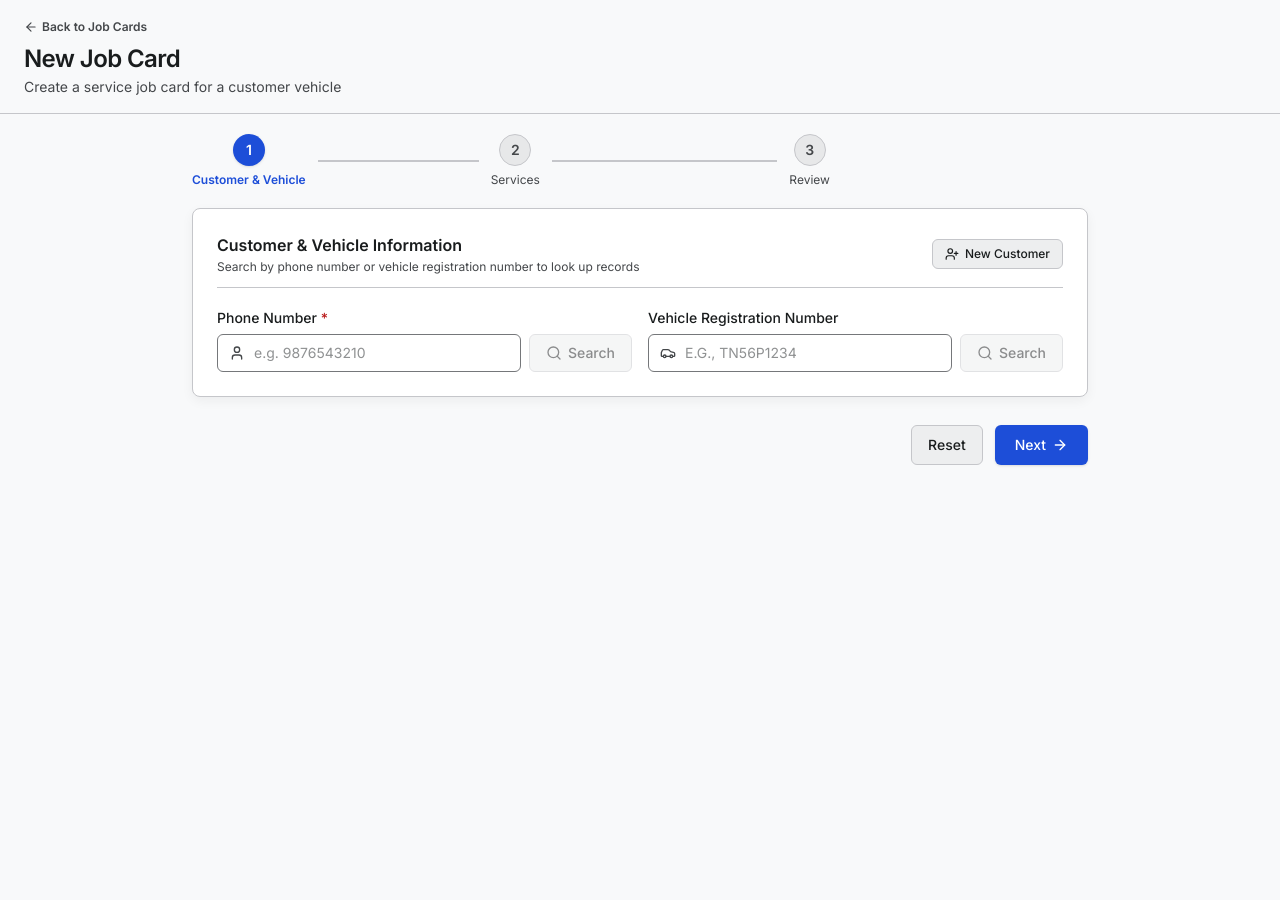
it: NewJobCard Component Workflow › supports inline customer creation and prompts for vehicle
The image size is (1280, 900).
Type "9123456780" into the field with placeholder "e.g. 9876543210".
click(369, 353); type("9123456780")  # box [217,334,521,372]
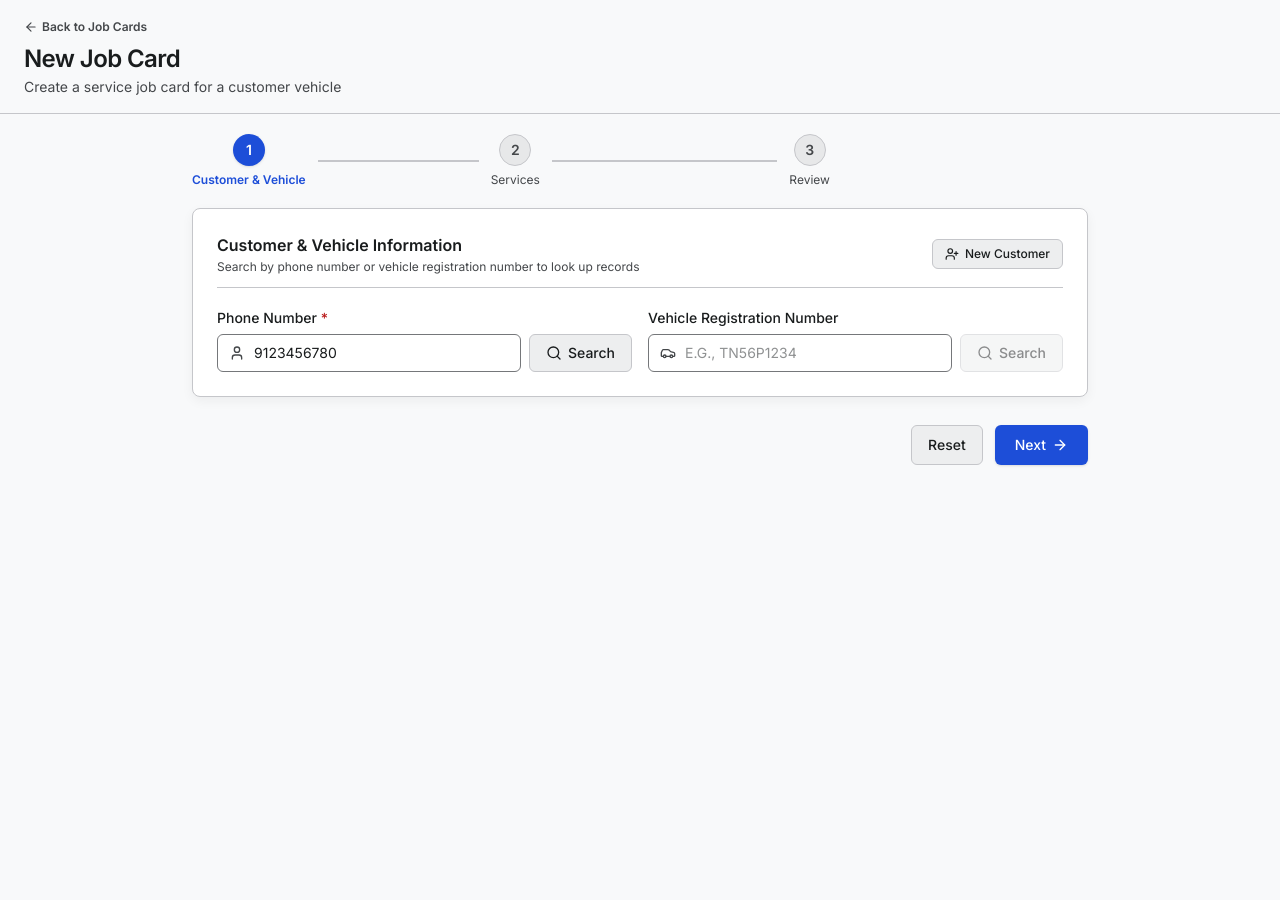
Click the 1st button "Search".
click(580, 353)  # box [529,334,632,372]
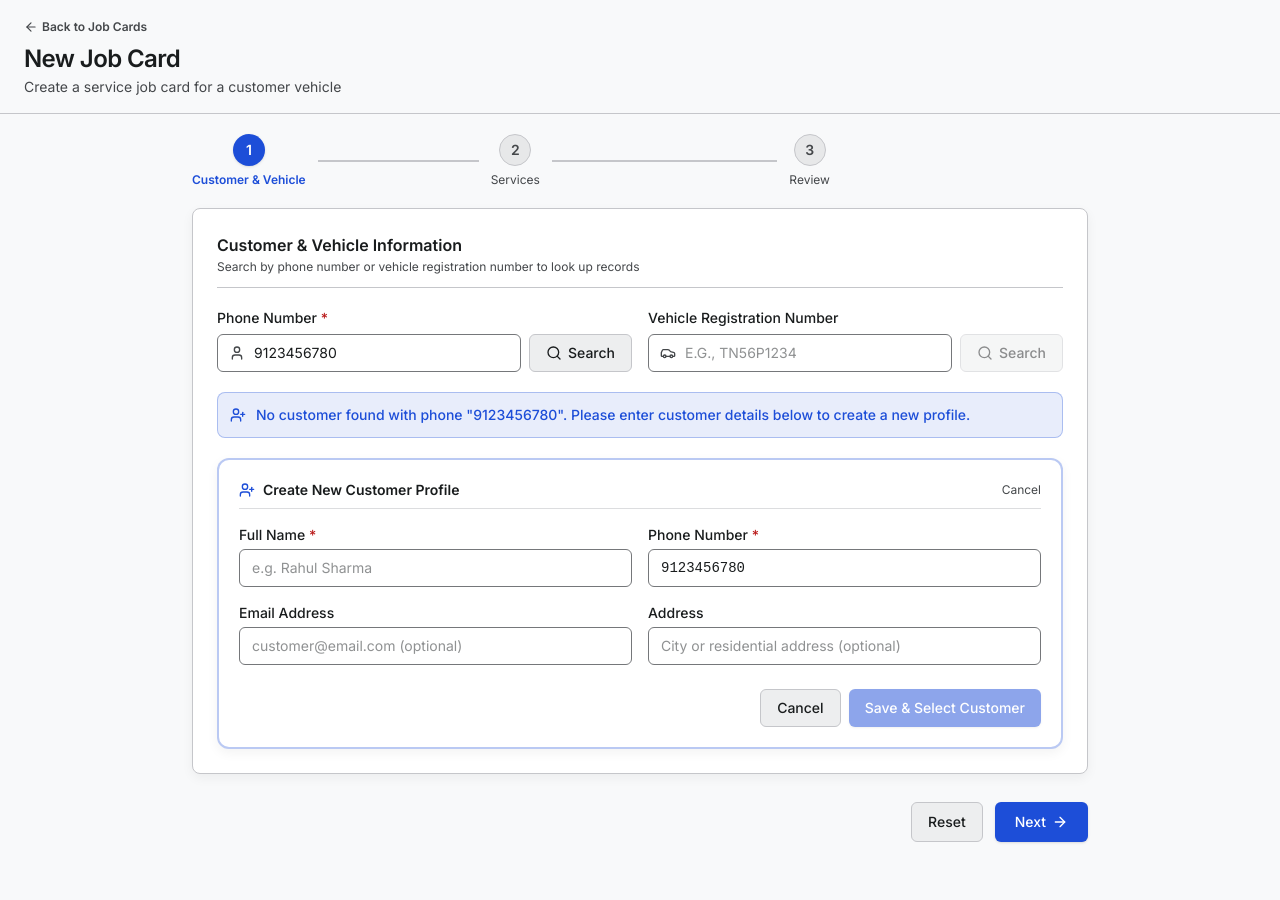
Result: the field with placeholder "e.g. Rahul Sharma" is shown
Type "Kavitha Ram" into the field with placeholder "e.g. Rahul Sharma".
click(436, 568); type("Kavitha Ram")  # box [239,549,632,587]
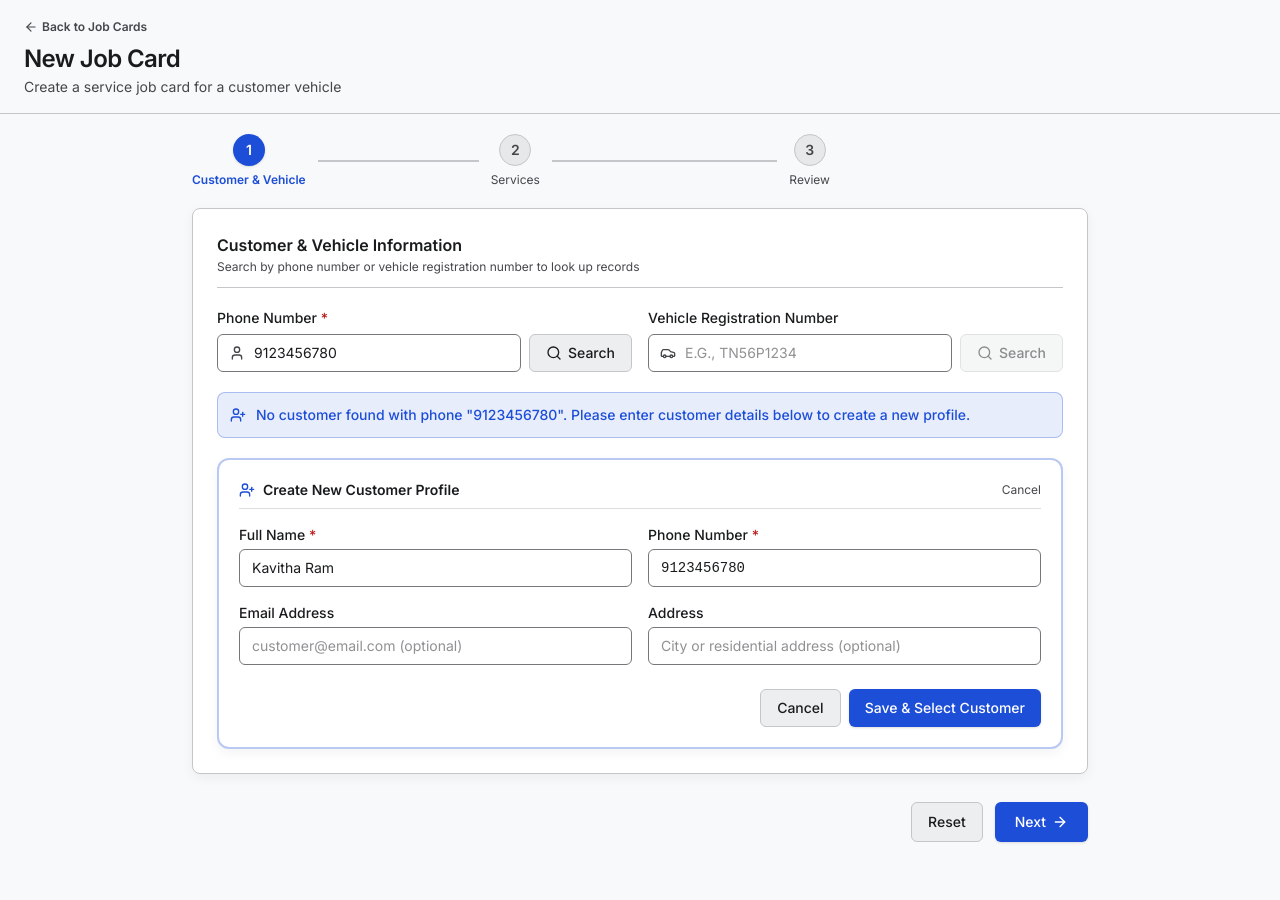
Click the button "Save & Select Customer".
click(945, 708)  # box [849,689,1041,727]
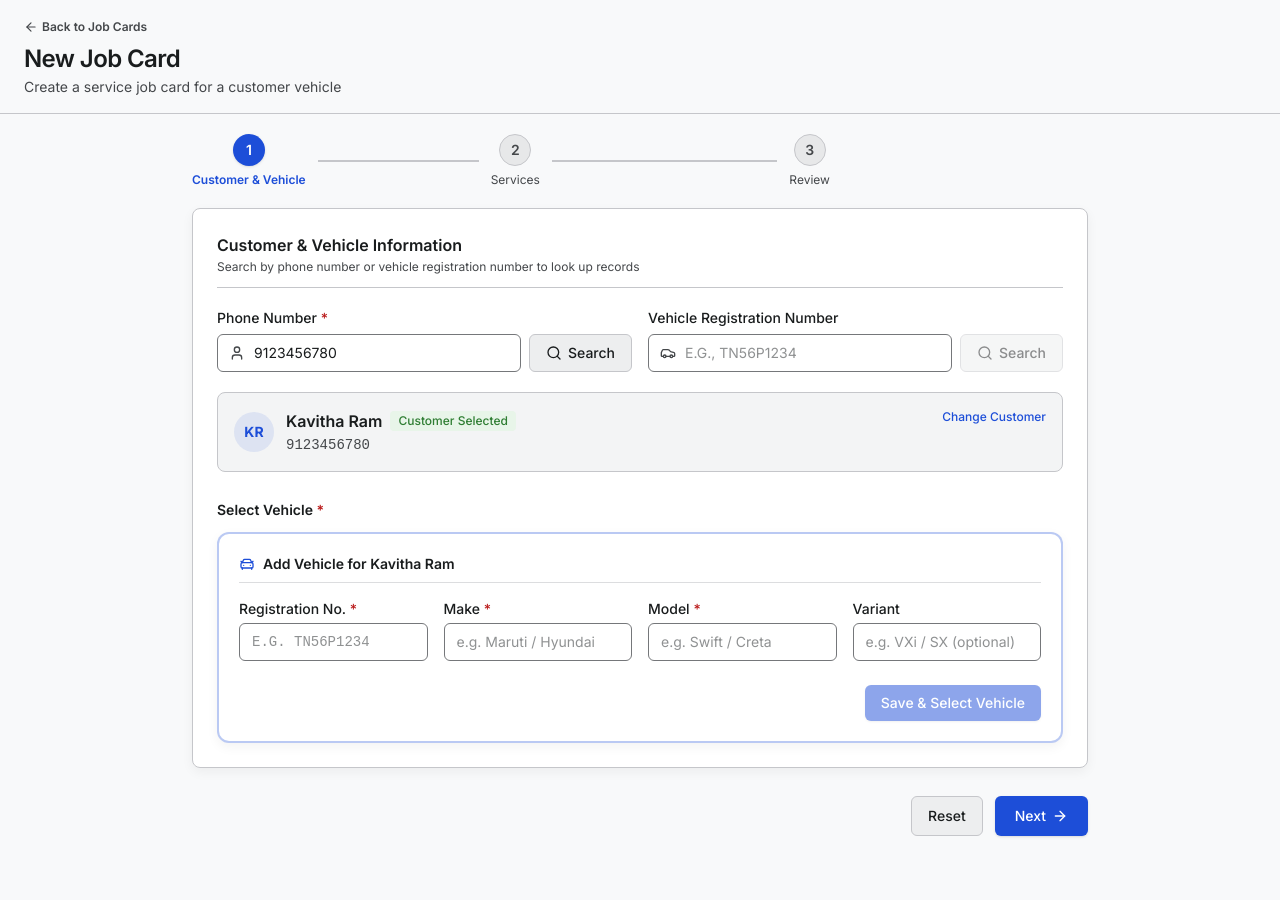
Result: the heading "Add Vehicle for Kavitha Ram" is shown at [263,554,455,574]
